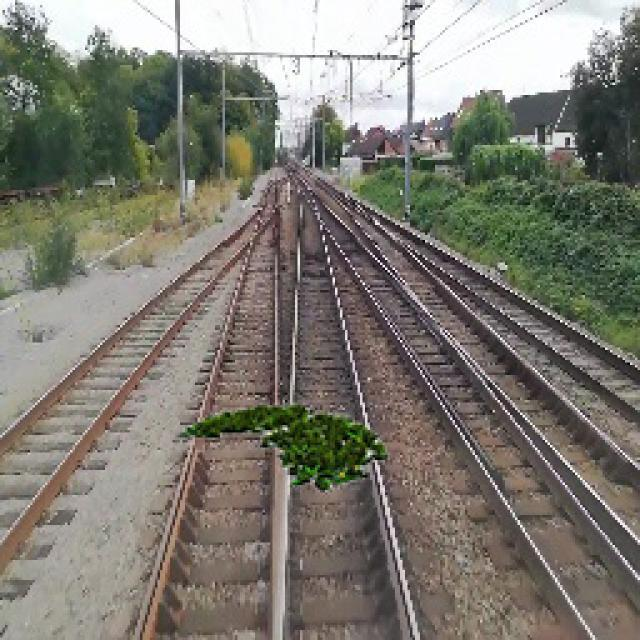danger: (176, 400, 396, 495)
rail: (0, 160, 640, 640)
